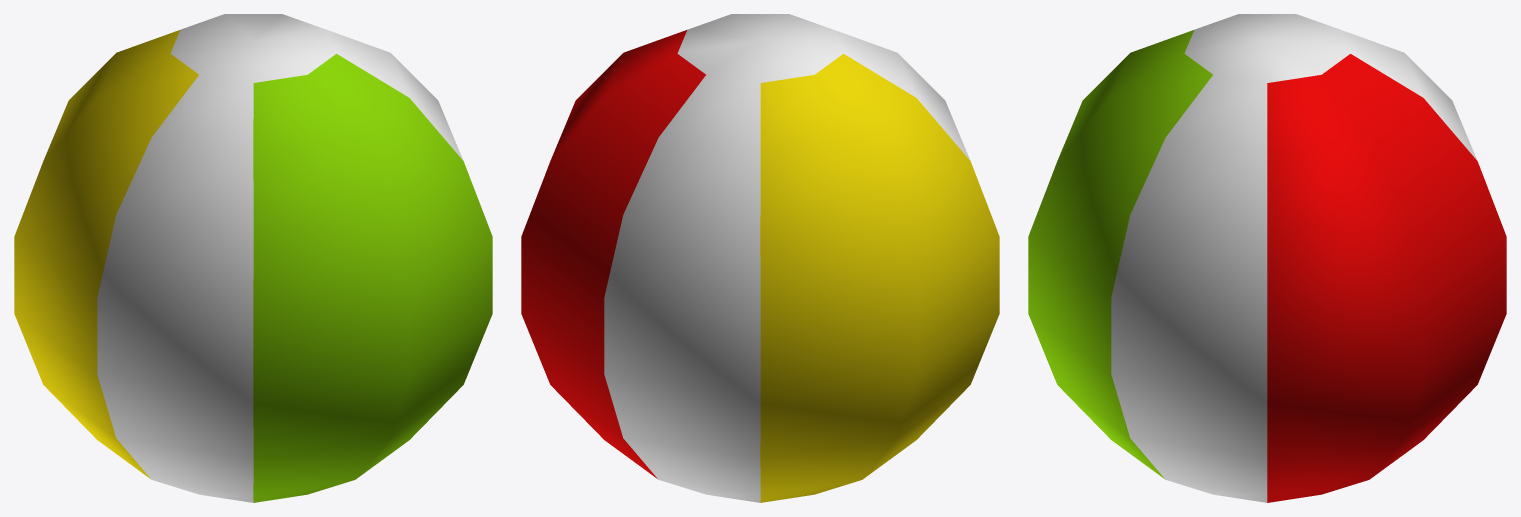
The model's file is Beach_ball.fbx.
3 views of the same model, side by side, from view 1: azimuth 30°, elevation 25°; view 2: azimuth 150°, elevation 25°; view 3: azimuth 270°, elevation 25° (orthographic).
Parts seen in each view (by area): view 1: beach_ball; view 2: beach_ball; view 3: beach_ball.
Part boxes in pixels (x1,y1,x2,y2): beach_ball: (14,14,492,502); beach_ball: (521,14,999,502); beach_ball: (1028,14,1506,502).
Bounding box in the file's own units: 2.47 × 2.51 × 2.5.
